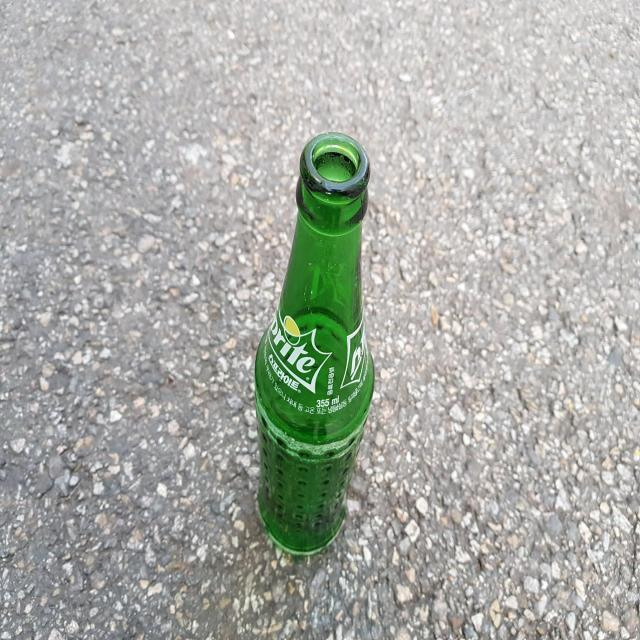glass: (255, 132, 375, 555)
